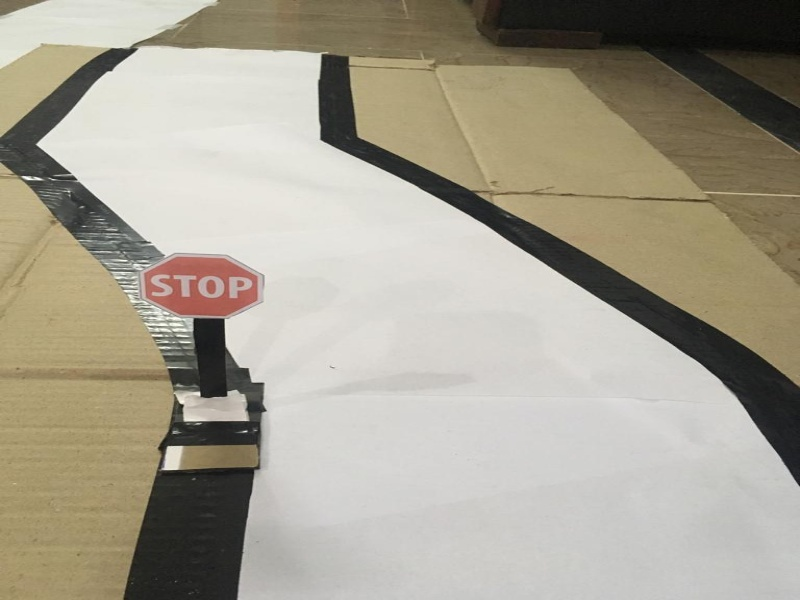Stop: (131, 244, 267, 319)
